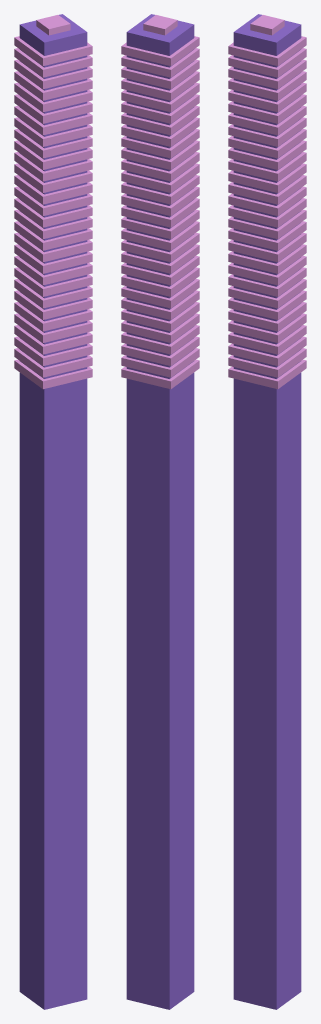
File: Build_1.fbx
3 renders of one model, left to right at view 1: azimuth 30°, elevation 25°; view 2: azimuth 150°, elevation 25°; view 3: azimuth 330°, elevation 25°, orthographic.
Parts seen in each view (by area): view 1: Build_1; view 2: Build_1; view 3: Build_1.
Part boxes in pixels (<box>): Build_1: <box>14,14,92,1009</box>; Build_1: <box>121,14,199,1009</box>; Build_1: <box>228,14,306,1009</box>.
Bounding box in the file's own units: 58.19 × 1088 × 58.19.
